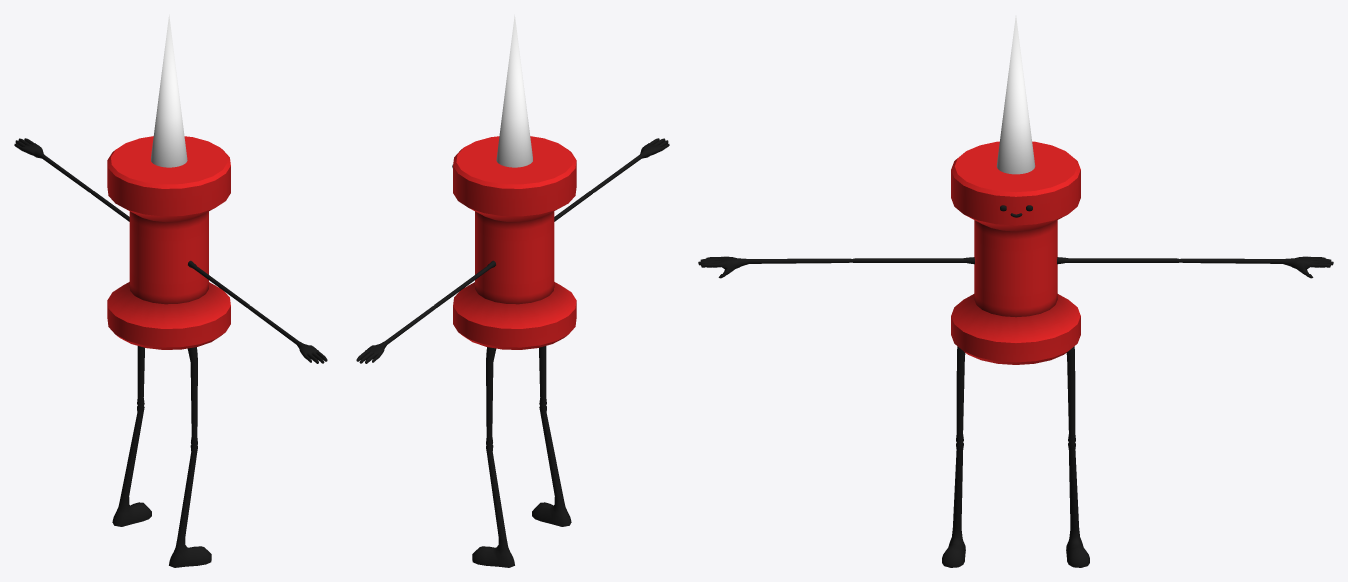
The model's file is Pin Character.glb.
The picture shows the model from 3 angles, left to right: view 1: azimuth 30°, elevation 25°; view 2: azimuth 150°, elevation 25°; view 3: azimuth 270°, elevation 25°; orthographic projection. The views are drawn at different scales.
Visible parts, largest first — view 1: _100Avatars_156_COOLPIN; view 2: _100Avatars_156_COOLPIN; view 3: _100Avatars_156_COOLPIN.
Part boxes in pixels (x1,y1,x2,y2): _100Avatars_156_COOLPIN: (14, 14, 327, 567); _100Avatars_156_COOLPIN: (356, 14, 669, 567); _100Avatars_156_COOLPIN: (698, 15, 1333, 567).
Size of the model in its own units: 0.5972 by 2.75 by 2.89.
1 material, 1 textured.
